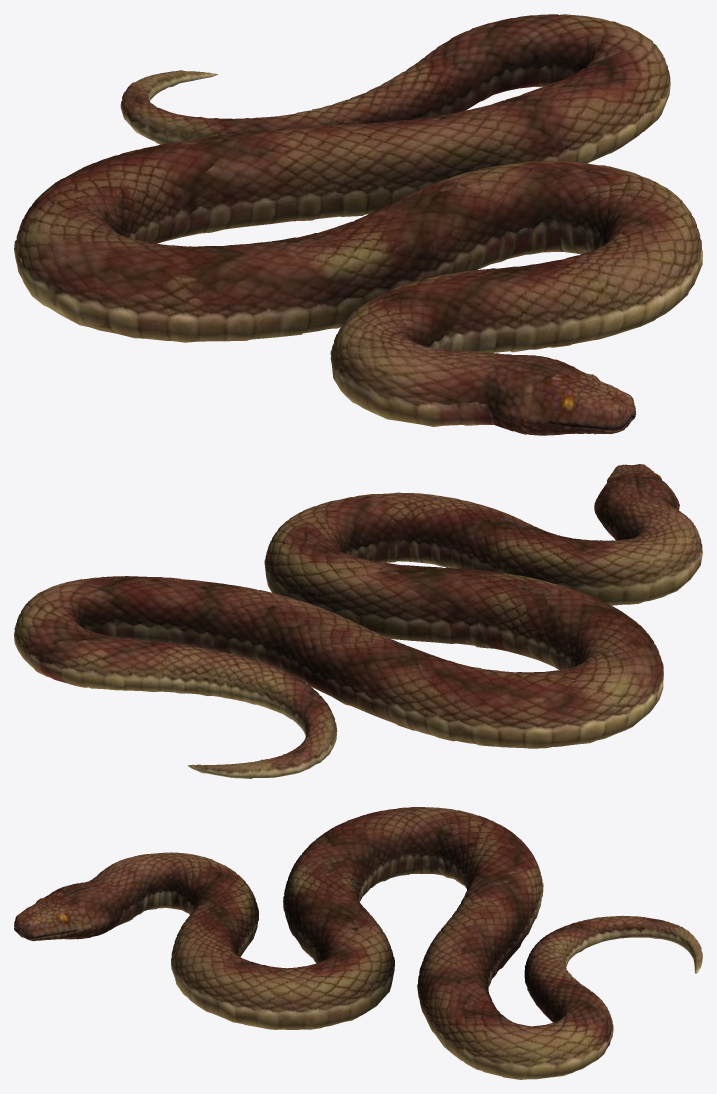
File: MZ4250 - Constrictor Snake_RedYellow.glb
3 renders of one model, top to bottom at view 1: azimuth 30°, elevation 25°; view 2: azimuth 150°, elevation 25°; view 3: azimuth 270°, elevation 25°, orthographic. The views are drawn at different scales.
Parts seen in each view (by area): view 1: ORGANIC BASE SPHERE.017; view 2: ORGANIC BASE SPHERE.017; view 3: ORGANIC BASE SPHERE.017.
Part boxes in pixels (<box>): ORGANIC BASE SPHERE.017: <box>14,14,702,435</box>; ORGANIC BASE SPHERE.017: <box>14,464,702,778</box>; ORGANIC BASE SPHERE.017: <box>14,807,702,1079</box>.
Bounding box in the file's own units: 1.05 × 0.1166 × 1.28.
1 material, 1 textured.
